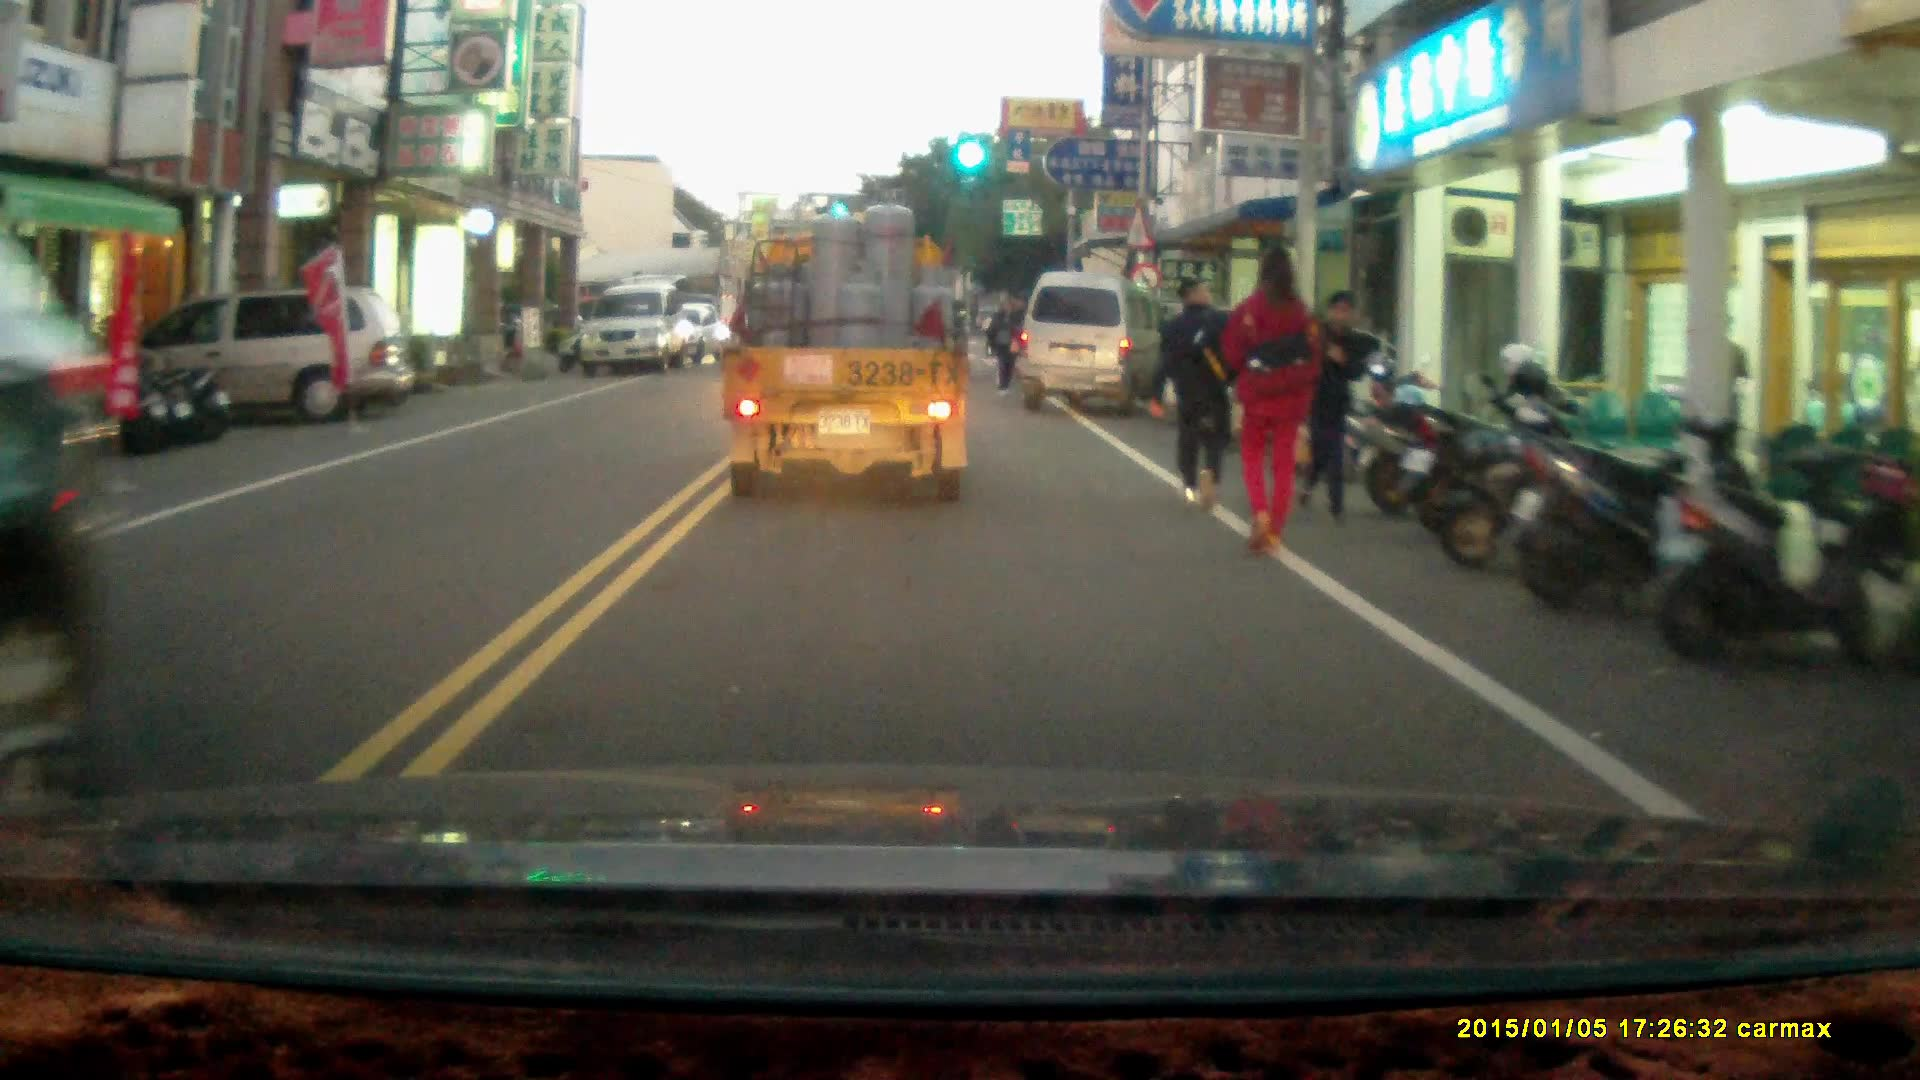pedestrian: (1225, 239, 1318, 566), (1149, 274, 1238, 509), (1298, 288, 1365, 526), (989, 298, 1024, 393)
vehicle: (713, 187, 978, 514), (118, 290, 411, 424), (1021, 271, 1169, 416), (586, 281, 702, 377)
